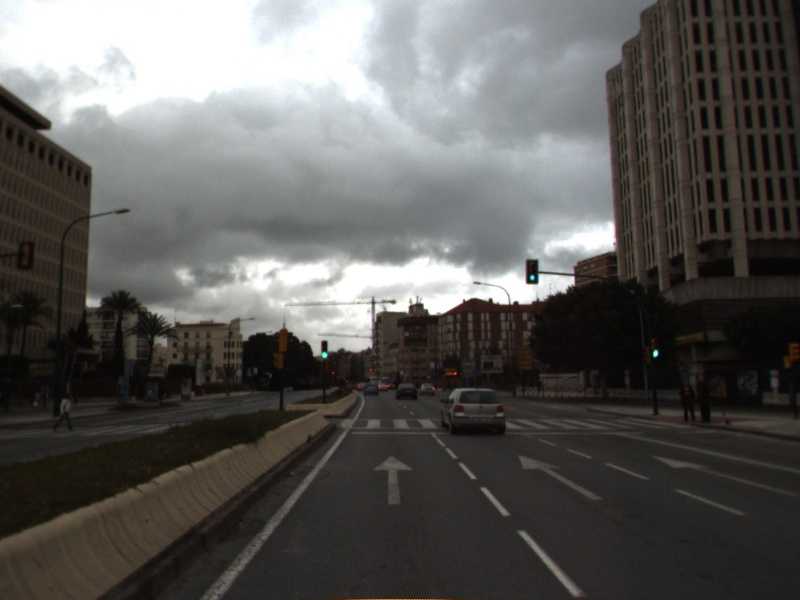STRAIGHT: (648, 453, 799, 498), (516, 453, 607, 502), (371, 453, 416, 506)
